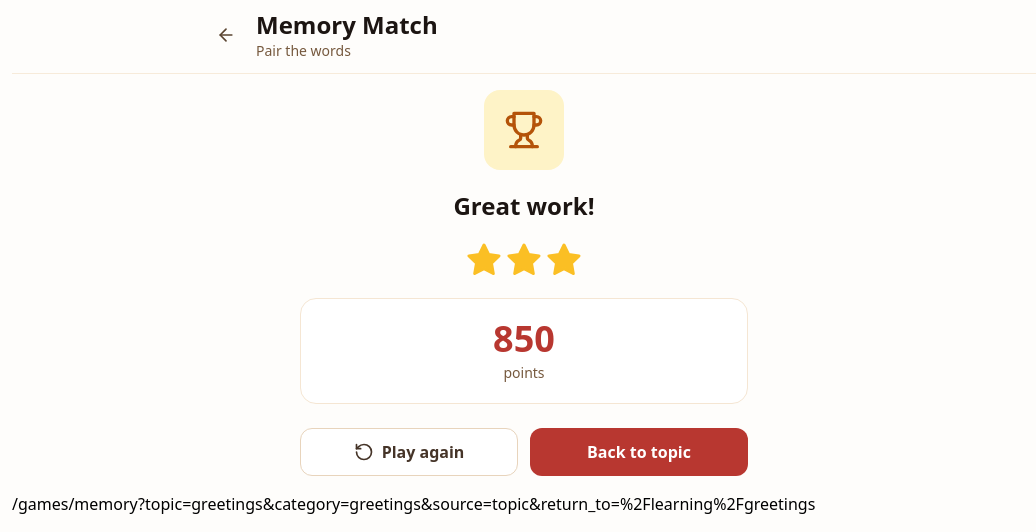
Test: shared game page UI › returns a topic-launched game and its result to the exact workspace
This screenshot has width=1036, height=532.
What coordinates should you click on to do the following:
click the link named "Back to topic"
I would click on:
 (226, 35)
Its box is [216,25,236,45].
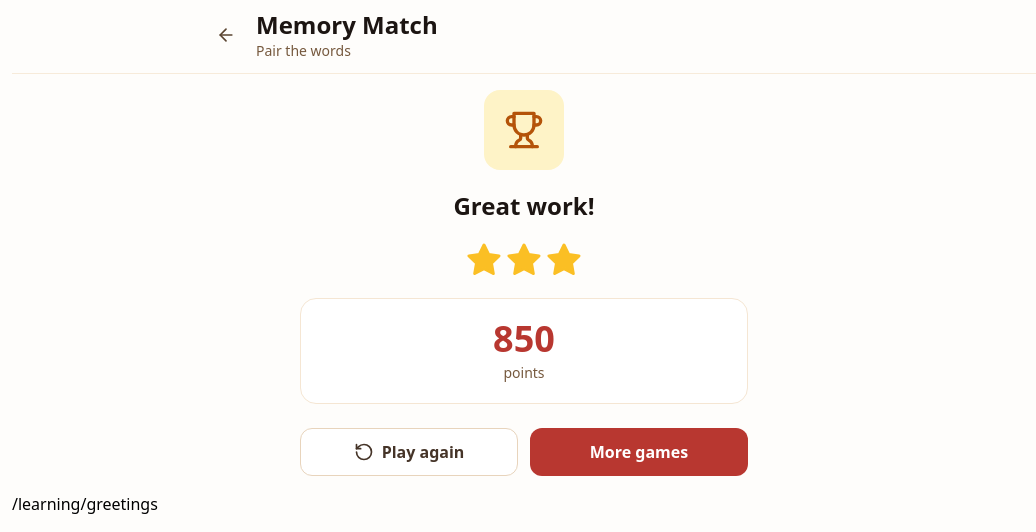
Expected: the text "/learning/greetings" is shown, [12,493,158,515]
